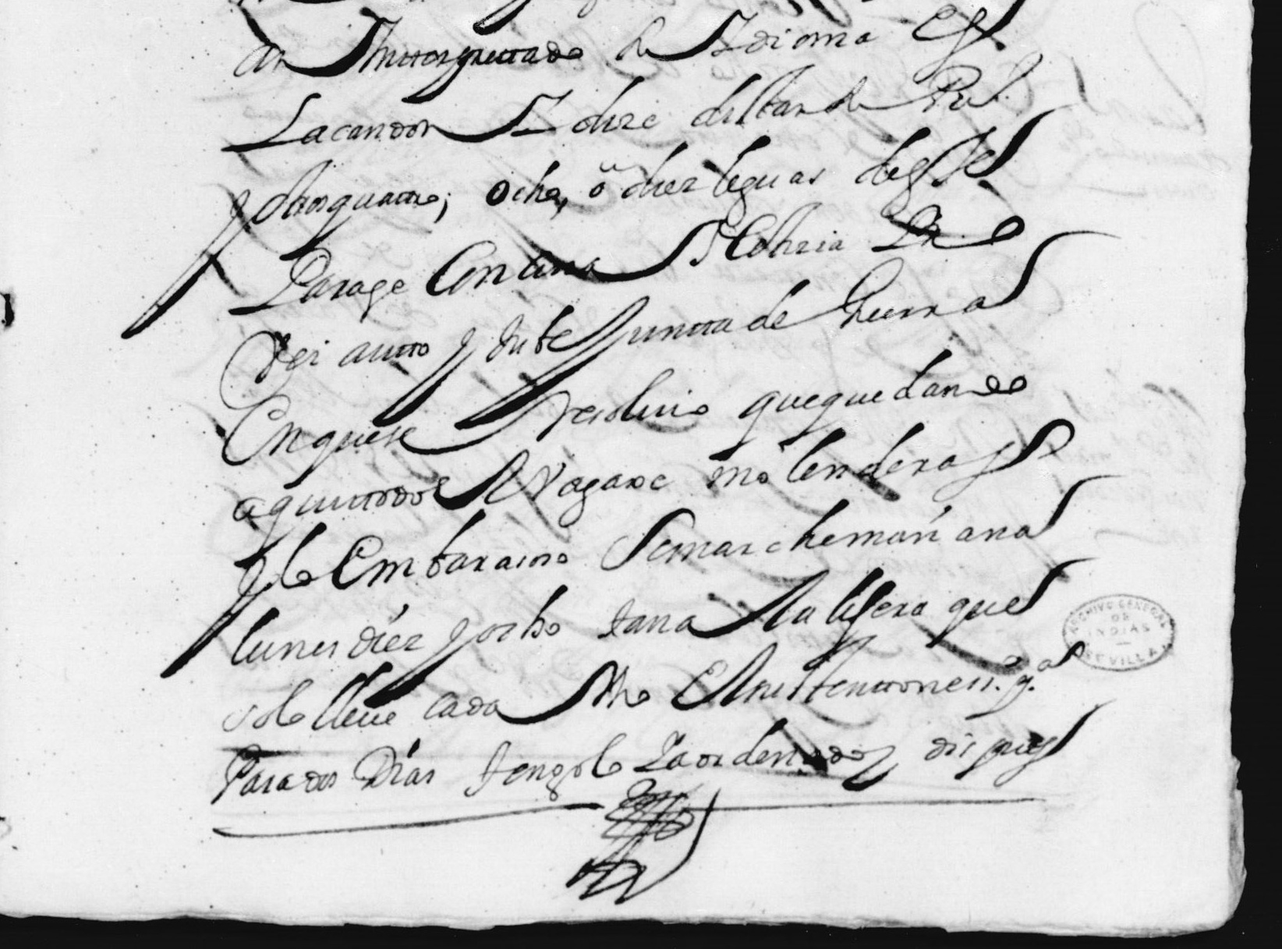lacandon: (221, 92, 539, 153)
